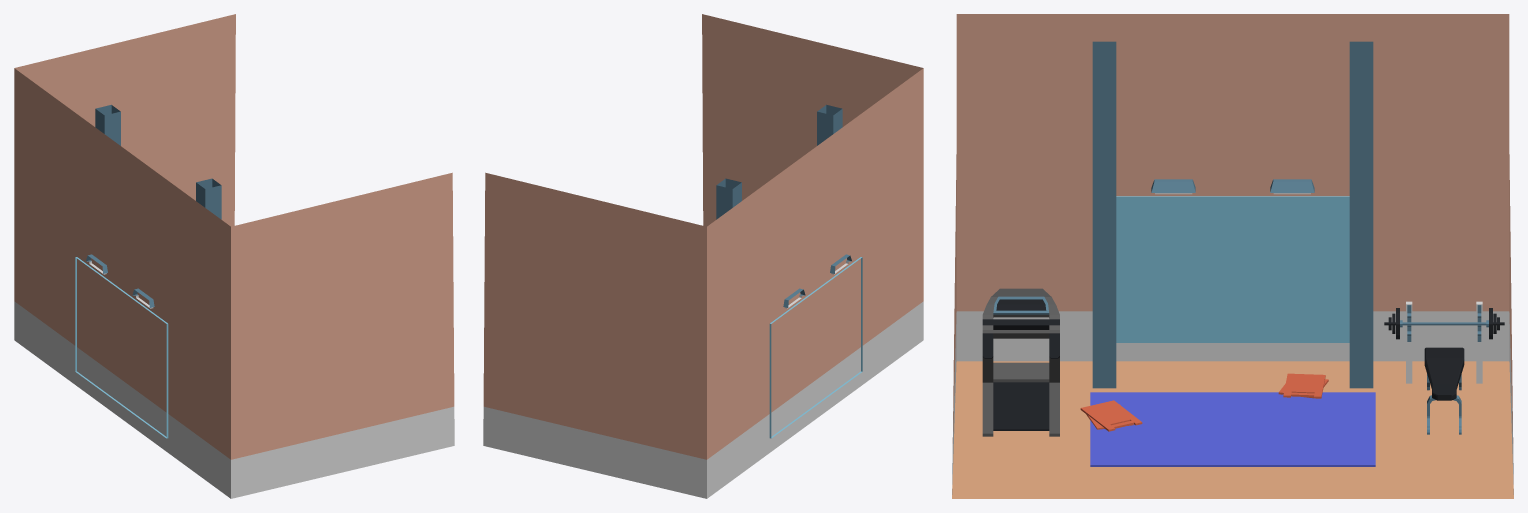
File: Map.fbx
3 renders of one model, left to right at view 1: azimuth 30°, elevation 25°; view 2: azimuth 150°, elevation 25°; view 3: azimuth 270°, elevation 25°, orthographic. The views are drawn at different scales.
Visible parts, largest first — view 1: Cube.001; view 2: Cube.001; view 3: Cube.001.
Part boxes in pixels (x1,y1,x2,y2): Cube.001: [14, 14, 454, 498]; Cube.001: [483, 14, 923, 498]; Cube.001: [952, 14, 1513, 498].
Size of the model in its own units: 485 by 559 by 817.
